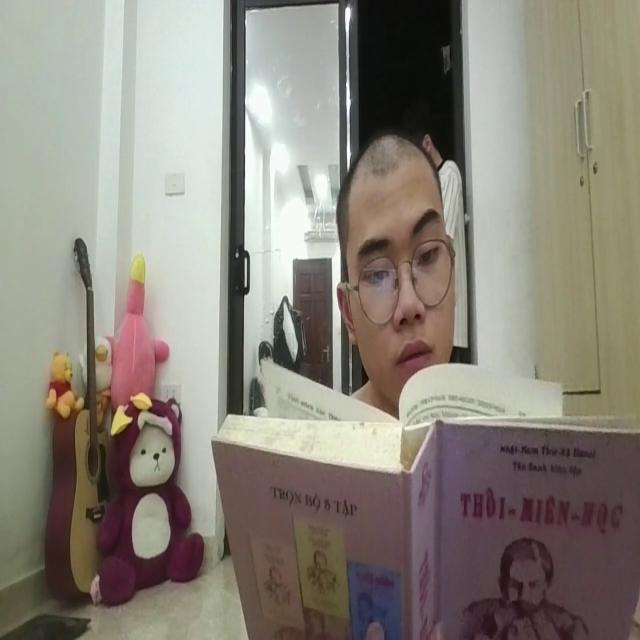book: (211, 357, 640, 639)
extra_person: (419, 123, 472, 367)
student: (326, 129, 462, 421)
